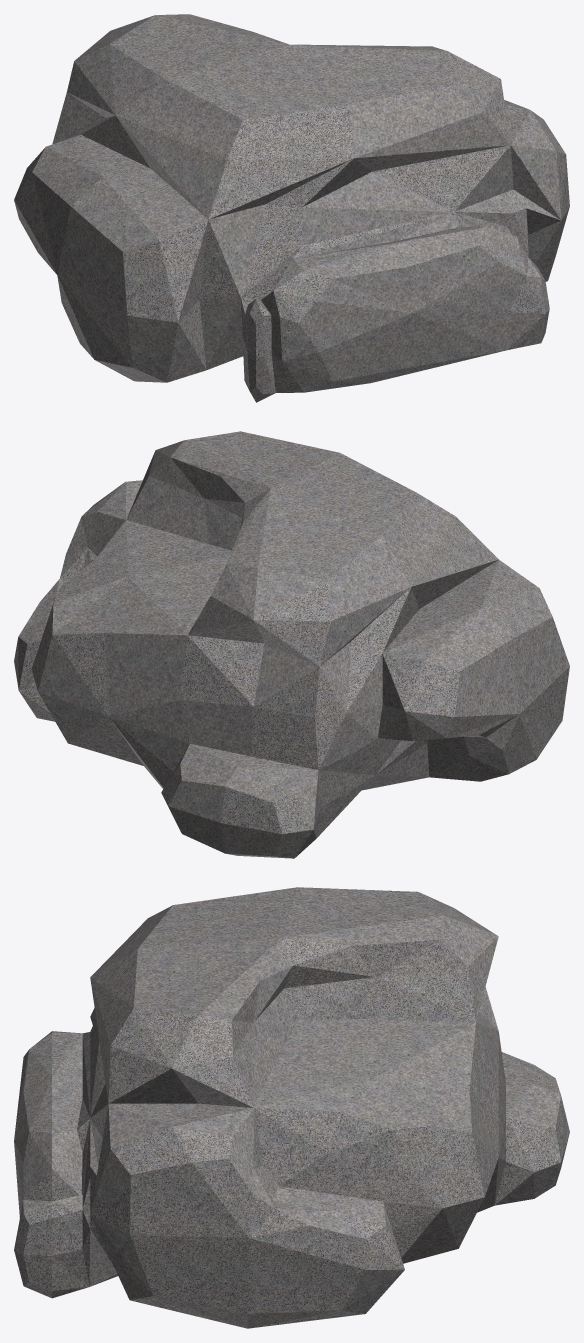
File: conjunto-de-piedras-grises.glb
The picture shows the model from 3 angles, top to bottom: view 1: azimuth 30°, elevation 25°; view 2: azimuth 150°, elevation 25°; view 3: azimuth 270°, elevation 25°; orthographic projection. The views are drawn at different scales.
Parts seen in each view (by area): view 1: 3256; view 2: 3256; view 3: 3256.
Boxes of the visible parts, bbox=[...] form: 3256: bbox=[14, 14, 569, 402]; 3256: bbox=[14, 431, 569, 858]; 3256: bbox=[14, 887, 569, 1328].
Size of the model in its own units: 2.37 by 1.27 by 2.23.
1 material, 1 textured.
